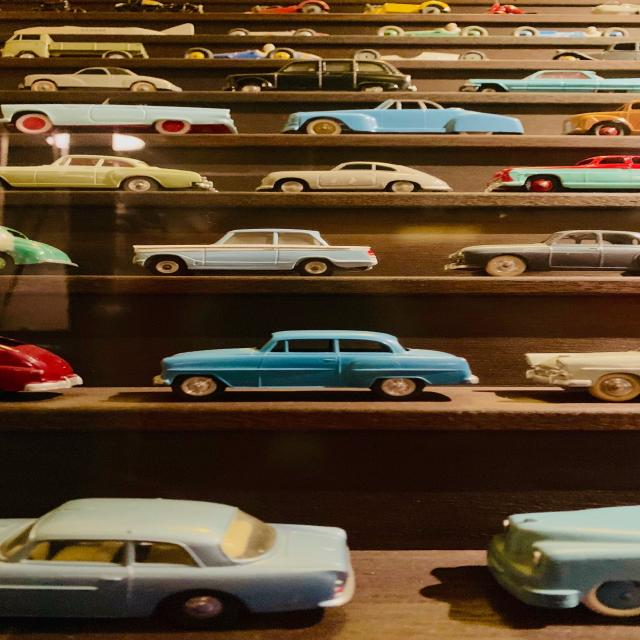Car: (0, 497, 356, 626), (153, 329, 480, 401), (486, 503, 640, 618), (132, 228, 378, 276), (280, 98, 525, 135), (444, 230, 640, 276), (0, 98, 238, 135), (0, 154, 215, 192), (222, 58, 417, 92), (524, 348, 640, 402), (255, 161, 454, 192), (485, 154, 640, 192), (0, 335, 84, 395), (19, 66, 183, 92), (458, 70, 640, 93), (0, 225, 80, 272), (561, 99, 640, 136)
